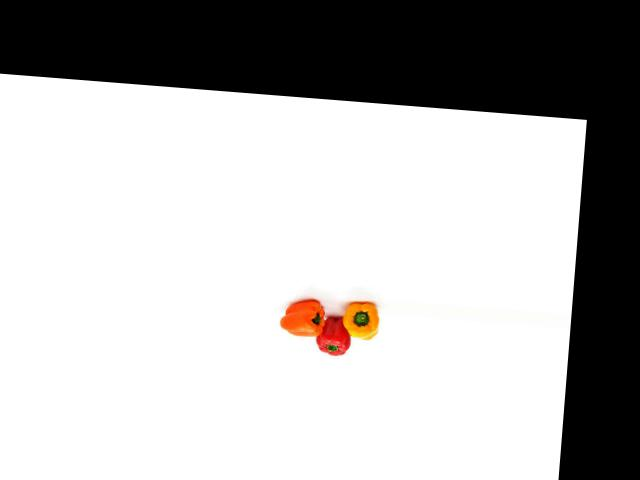bell_pepper: (336, 299, 383, 342)
